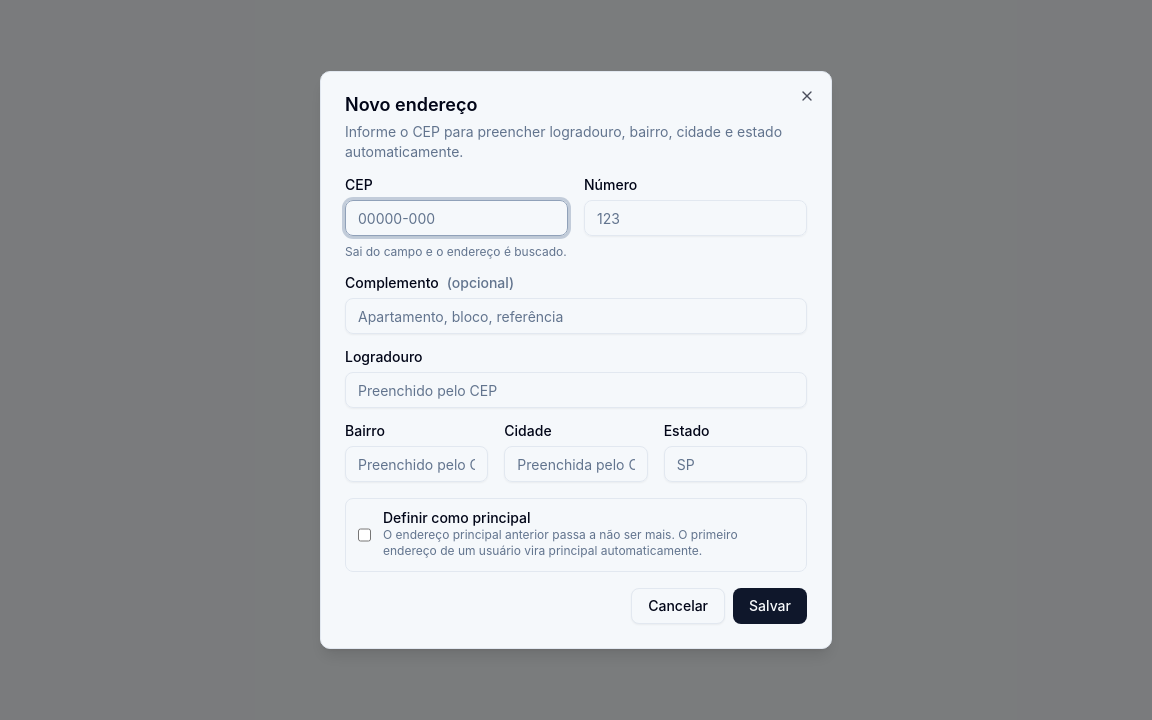
Scenario: EnderecoFormDialog: preenchimento automatico pelo CEP › preenche logradouro, bairro, cidade e estado ao sair do campo CEP
Type "01310100" into the field labelled "CEP" at (456, 218), box [345, 200, 568, 236]
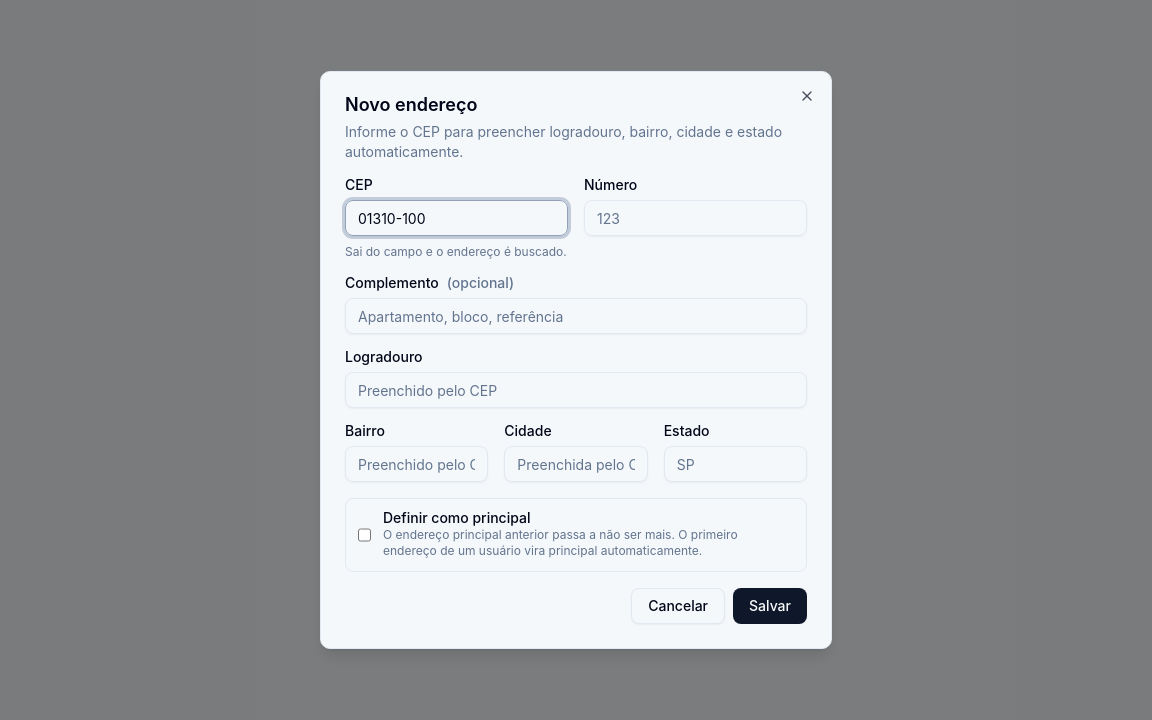
Press Tab
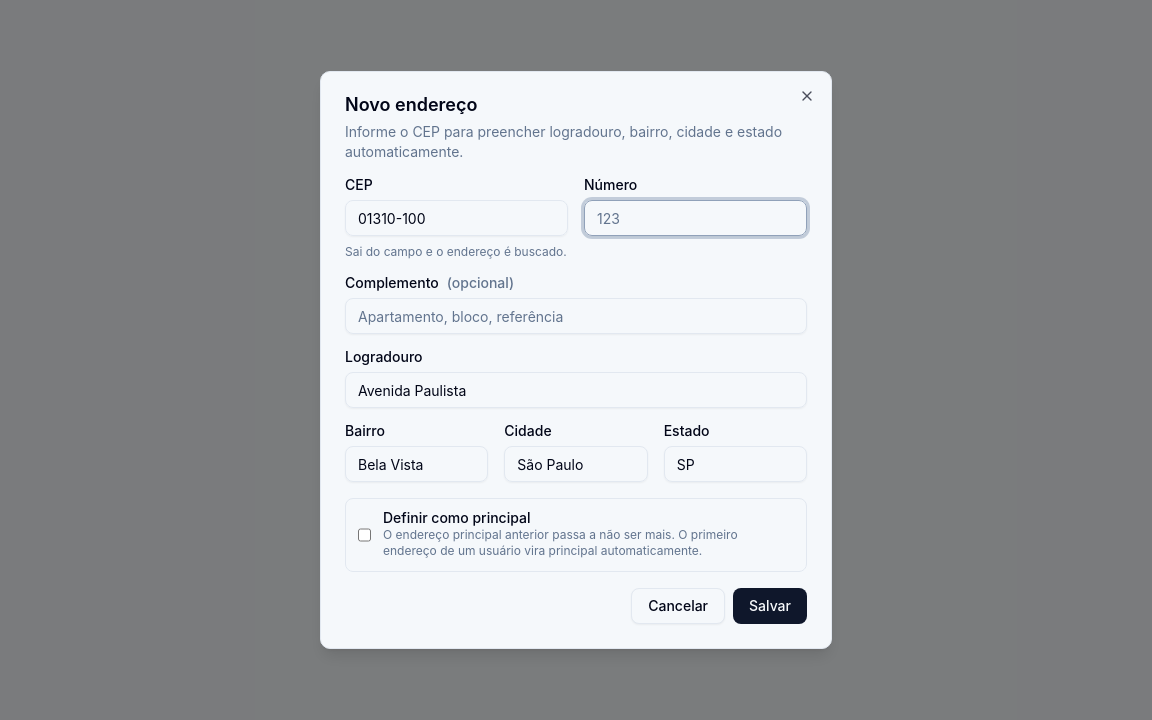
expect the field labelled "Logradouro" holds "Avenida Paulista": met, box [345, 372, 807, 408]
expect the field labelled "Bairro" holds "Bela Vista": met, box [345, 446, 488, 482]
expect the field labelled "Cidade" holds "São Paulo": met, box [504, 446, 648, 482]
